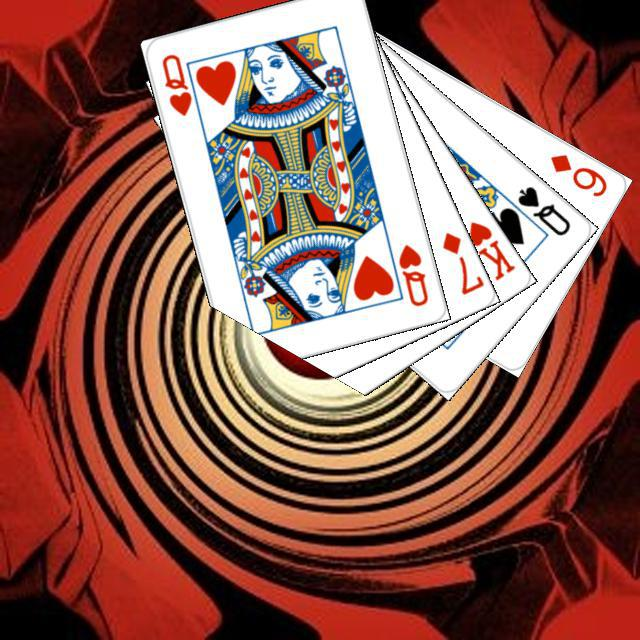6d: (545, 149, 609, 199)
7d: (437, 227, 484, 297)
Kh: (449, 216, 517, 283)
Qh: (157, 49, 205, 121), (393, 239, 430, 309)
Qs: (512, 181, 573, 238)
